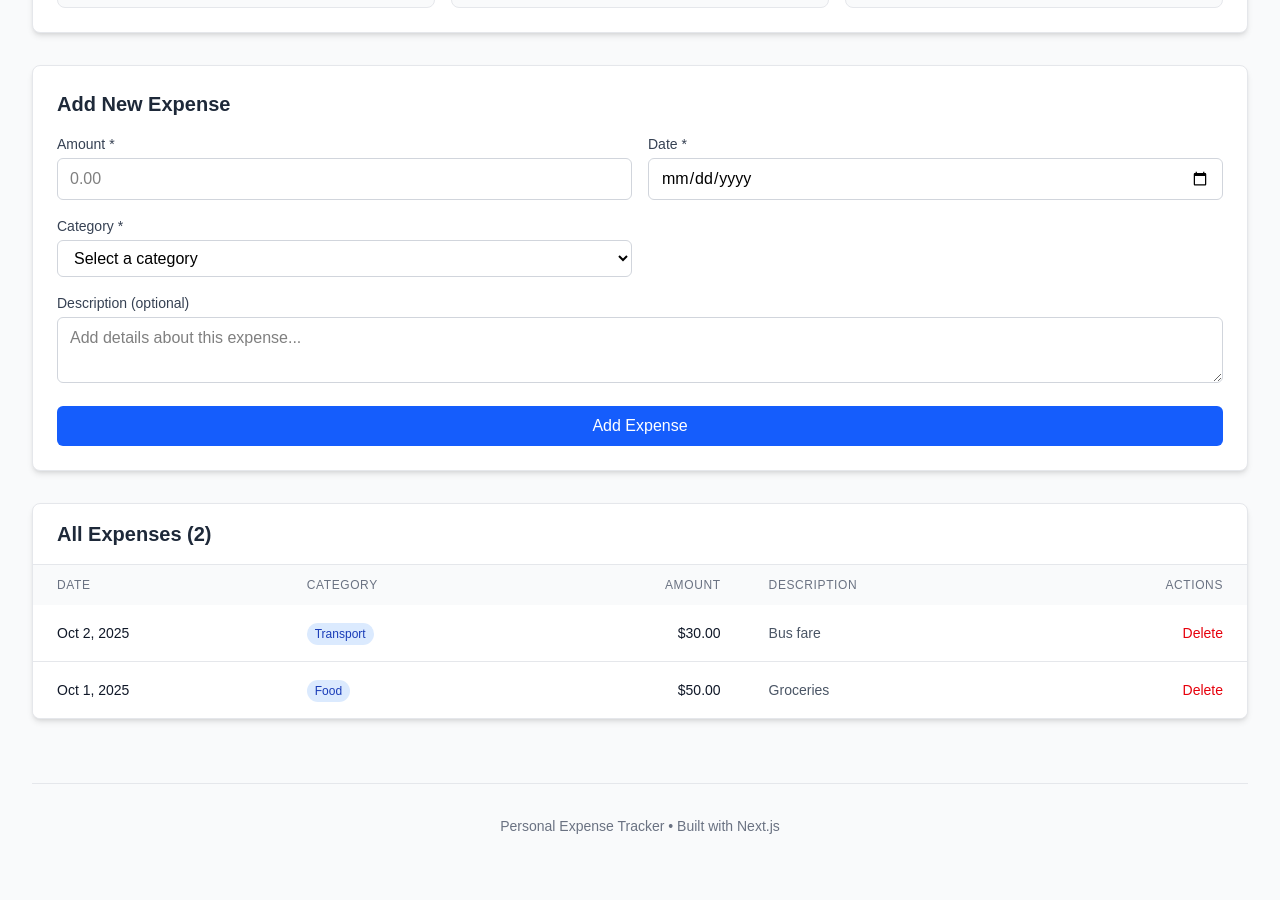
Scenario: Delete Expense Integration Test › should delete an expense when delete button is clicked
(page scrolled)
Expected: the text "Groceries" is shown, [745,662,1028,718]
Expected: the text "Bus fare" is shown, [745,605,1028,662]
Click the button "Delete" in the row of "Oct 2, 2025": (1203, 633) [1182,623,1223,643]
(page scrolled)
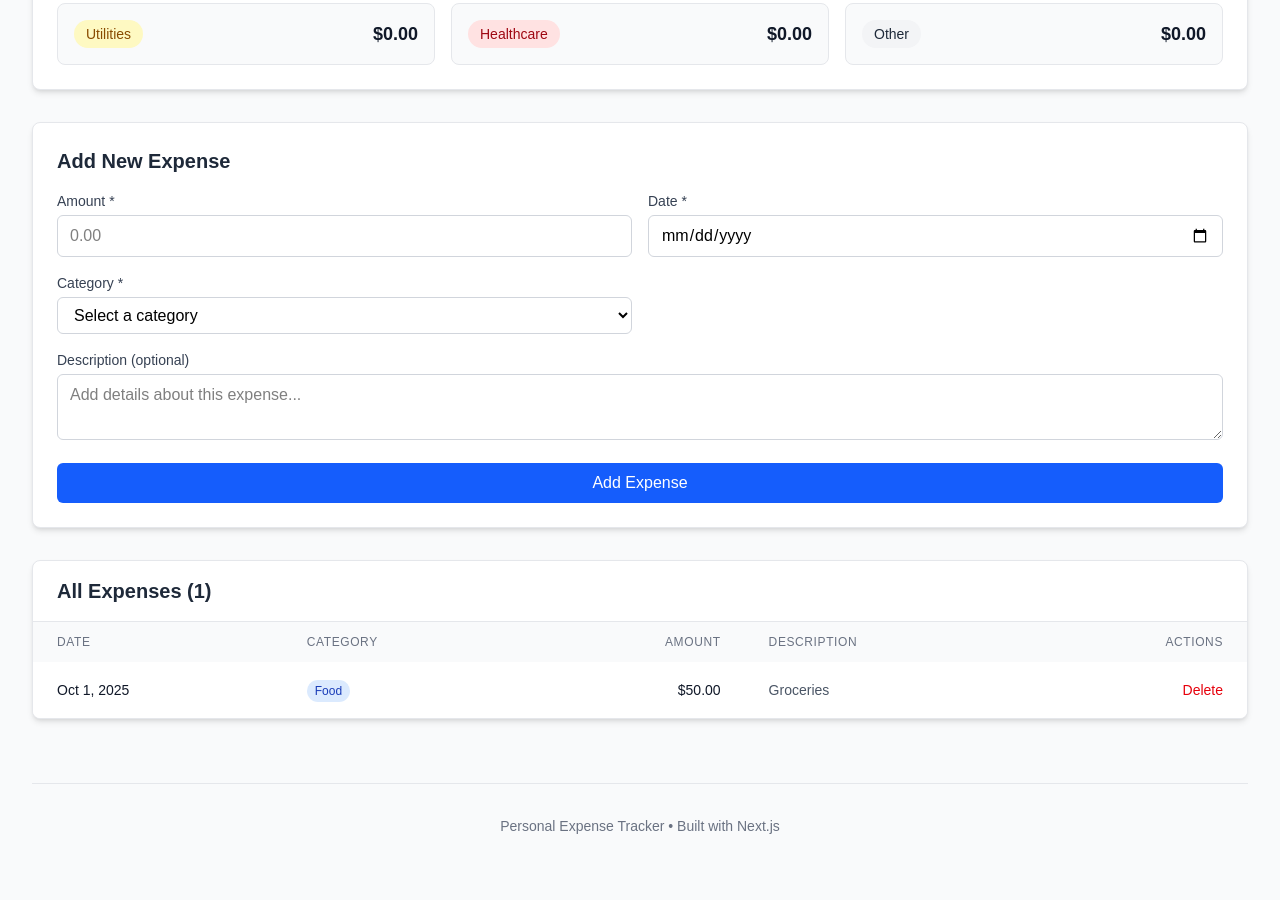
Expected: the text "Groceries" is shown, [745,662,1028,718]
Now the text "Bus fare" is gone
